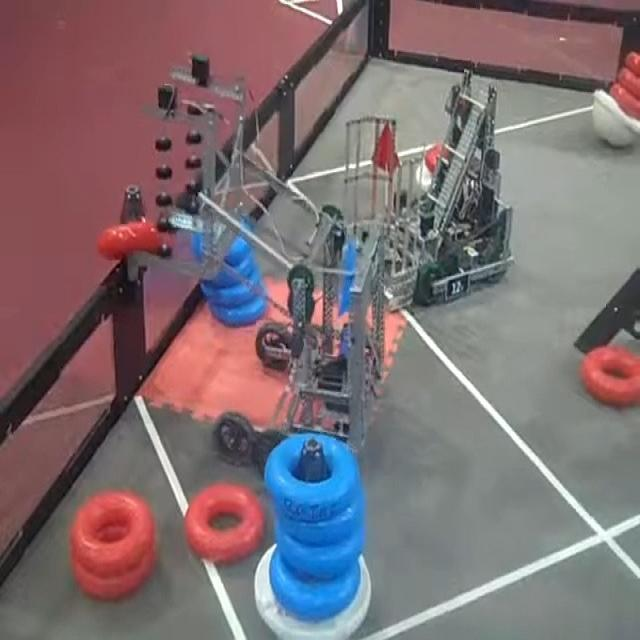Blue-Ring: (265, 433, 361, 521), (270, 547, 360, 621), (276, 520, 363, 578), (276, 495, 364, 544), (191, 217, 250, 268), (209, 294, 267, 329), (201, 276, 266, 307)
Red-Ring: (71, 492, 154, 575), (185, 483, 264, 563), (580, 345, 640, 406), (71, 560, 154, 600), (98, 220, 165, 260), (610, 85, 640, 122), (621, 67, 640, 104), (626, 50, 640, 83)
